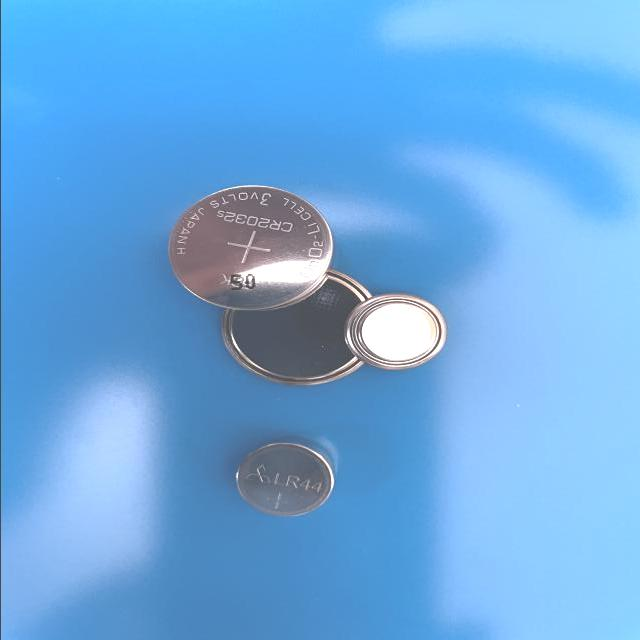COIN: (163, 178, 333, 312), (216, 262, 377, 388), (341, 292, 448, 373), (231, 440, 337, 518)
